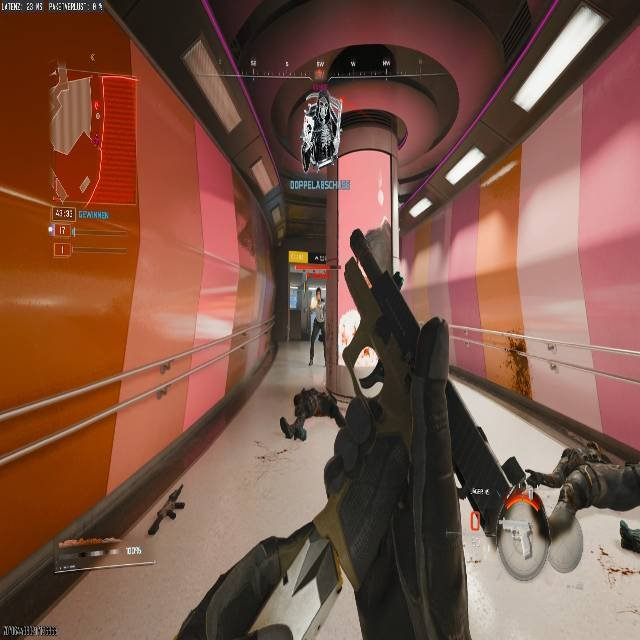head: (314, 287, 322, 297)
player: (305, 286, 326, 365)
